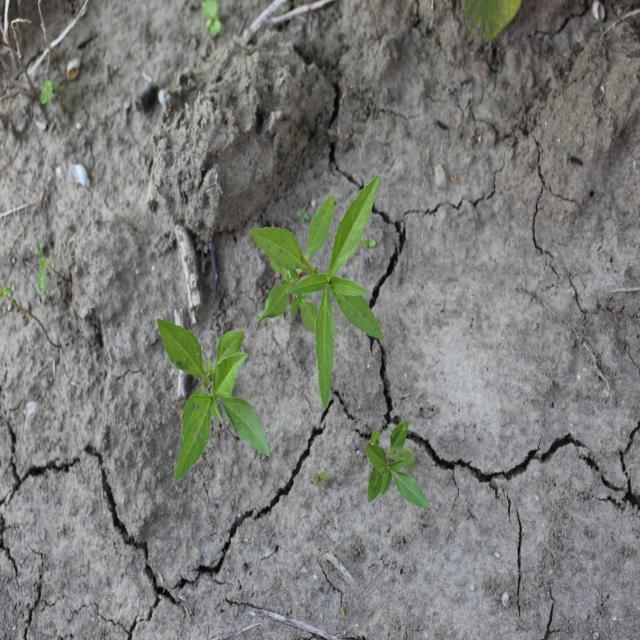Eclipta: (248, 173, 386, 413), (156, 316, 272, 483), (364, 418, 430, 511)
